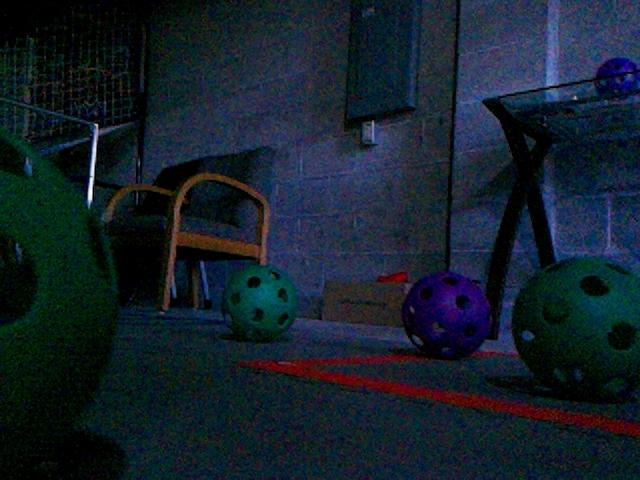Green: (0, 127, 124, 480), (510, 256, 640, 398), (219, 264, 298, 342), (594, 58, 639, 97)
Purple: (399, 270, 495, 360)
